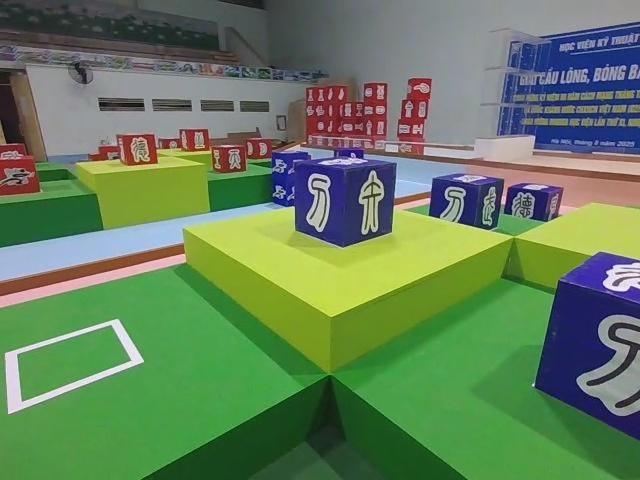R2 Fake Blue: (293, 159, 396, 252), (431, 174, 507, 234), (506, 184, 567, 225)
